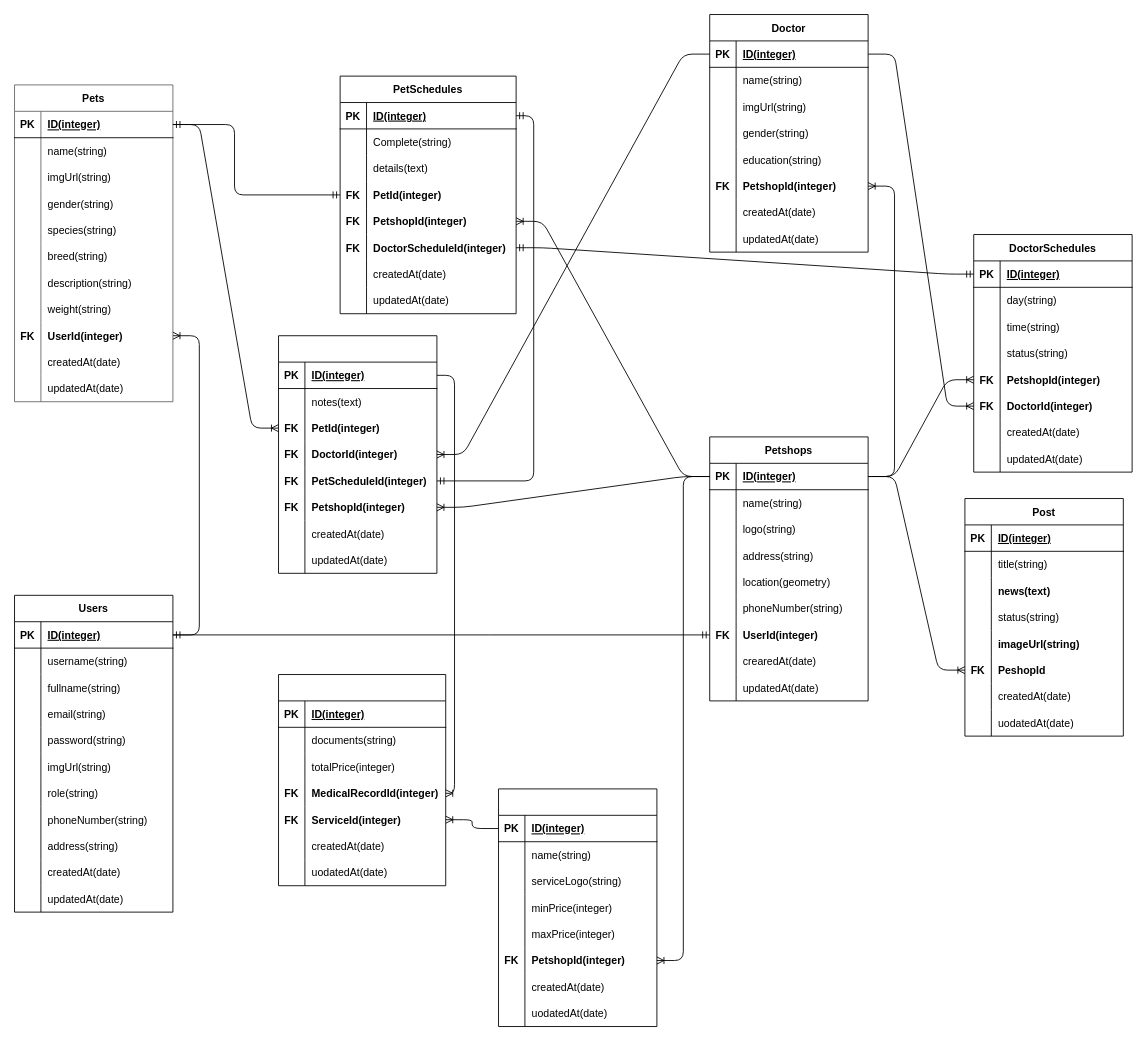
The diagram is 1147 pixels wide and 1041 high, and some of its shapes have lost their labels. The shapes that lost their labels are listed below. From the top down, each one's box as (x1, y1, x2, y2) in pixels, then its label:
(278, 335, 437, 573): MedicalRecords
(278, 674, 446, 886): Actions
(498, 788, 657, 1027): Services
